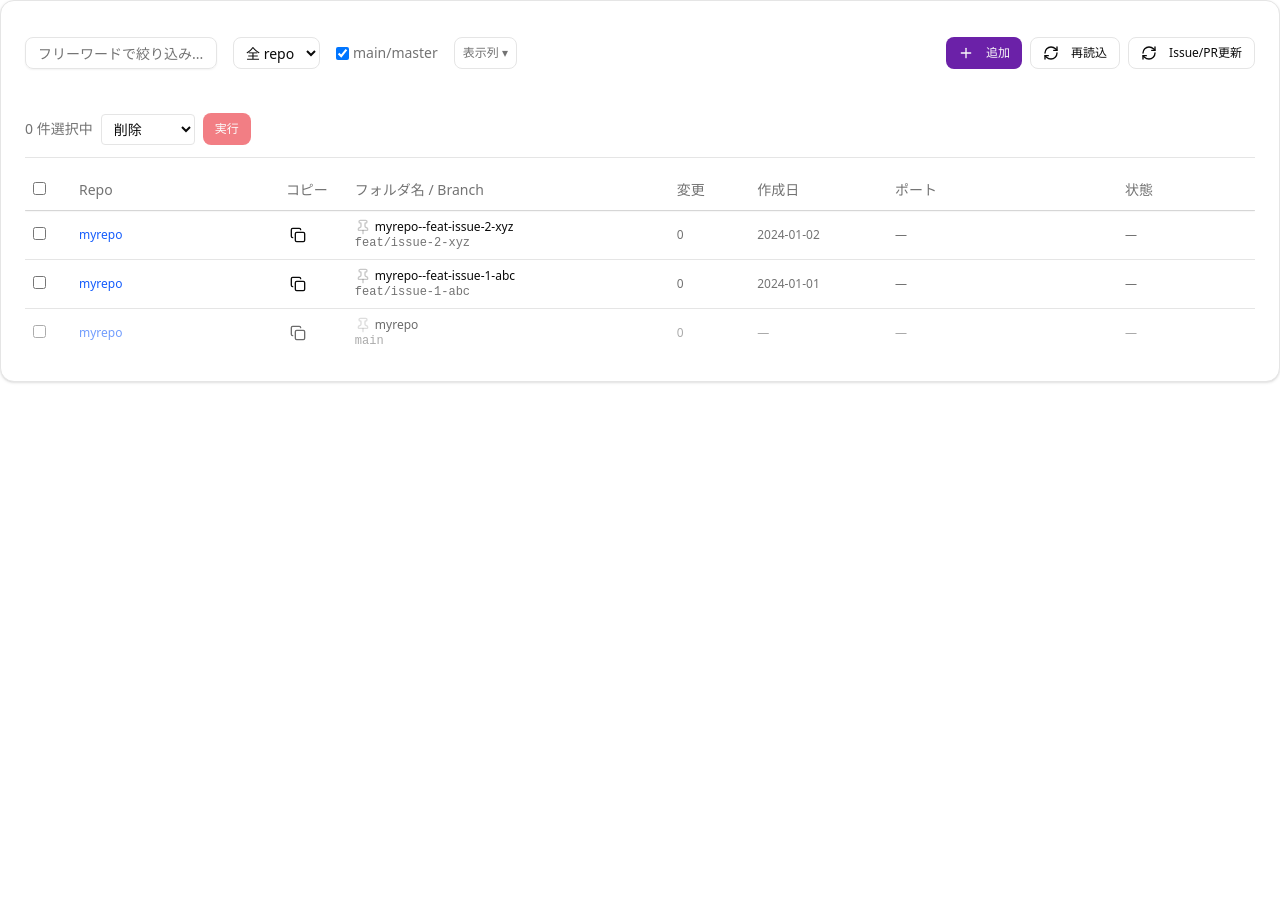
TreesPage - checkbox and bulk action › closes confirmation modal on cancel
Click the checkbox named "myrepo/myrepo--feat-issue-1-abc を選択" at (40, 282), box [33,276,46,288]
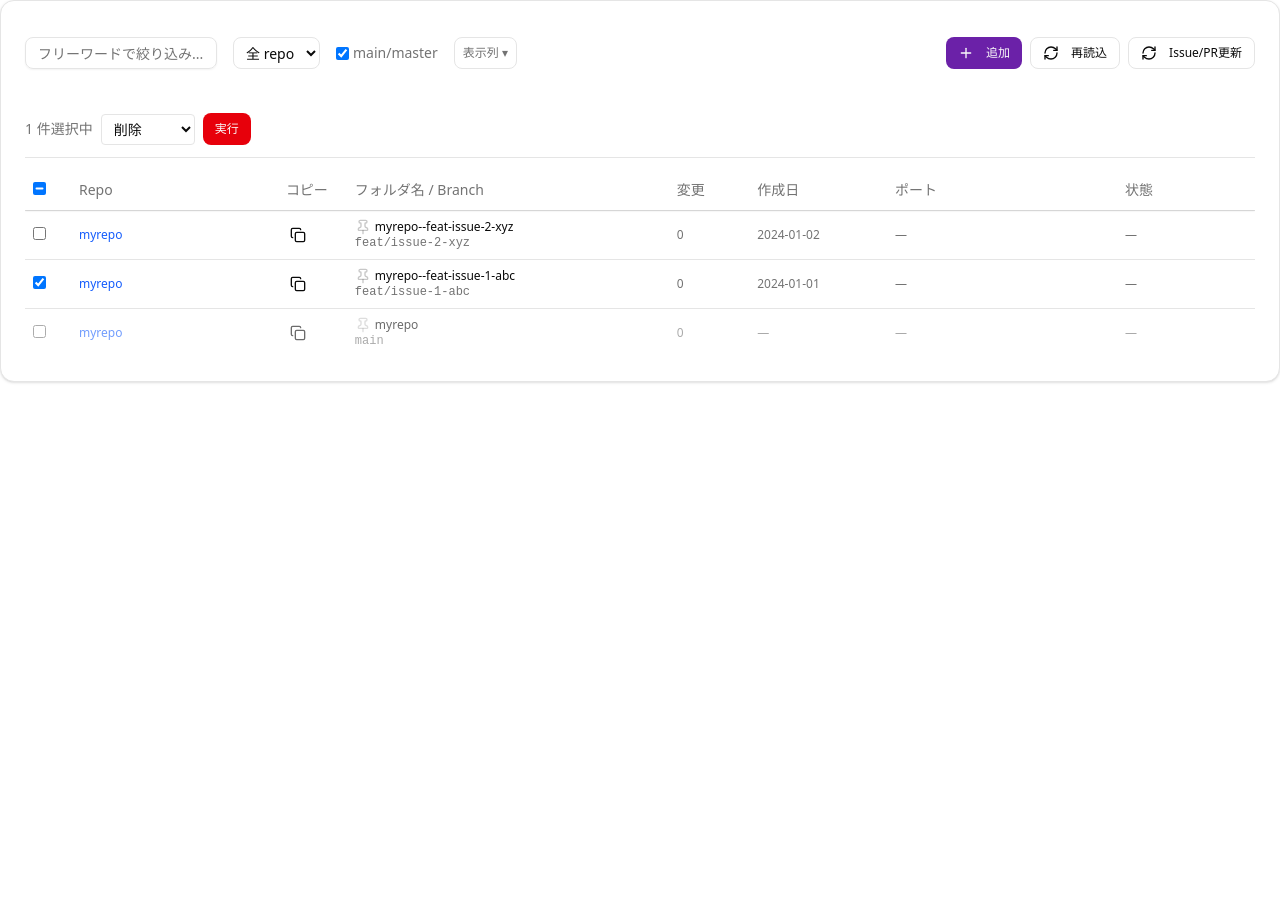
Click the button "実行" at (227, 129), box [203,113,251,145]
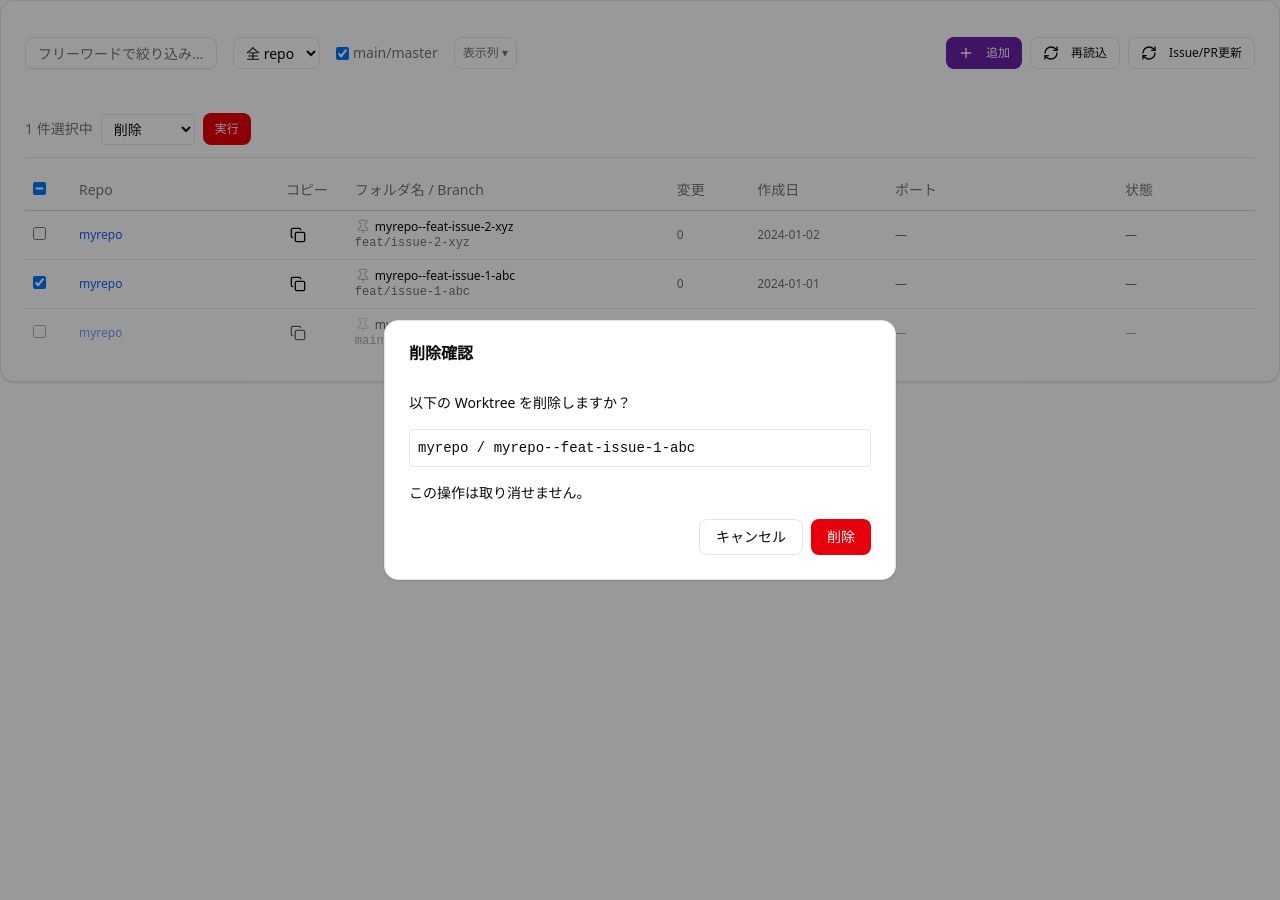
Result: the text "削除確認" is shown at [409,342,473,364]
Click the button "キャンセル" at (751, 537), box [699,519,803,555]
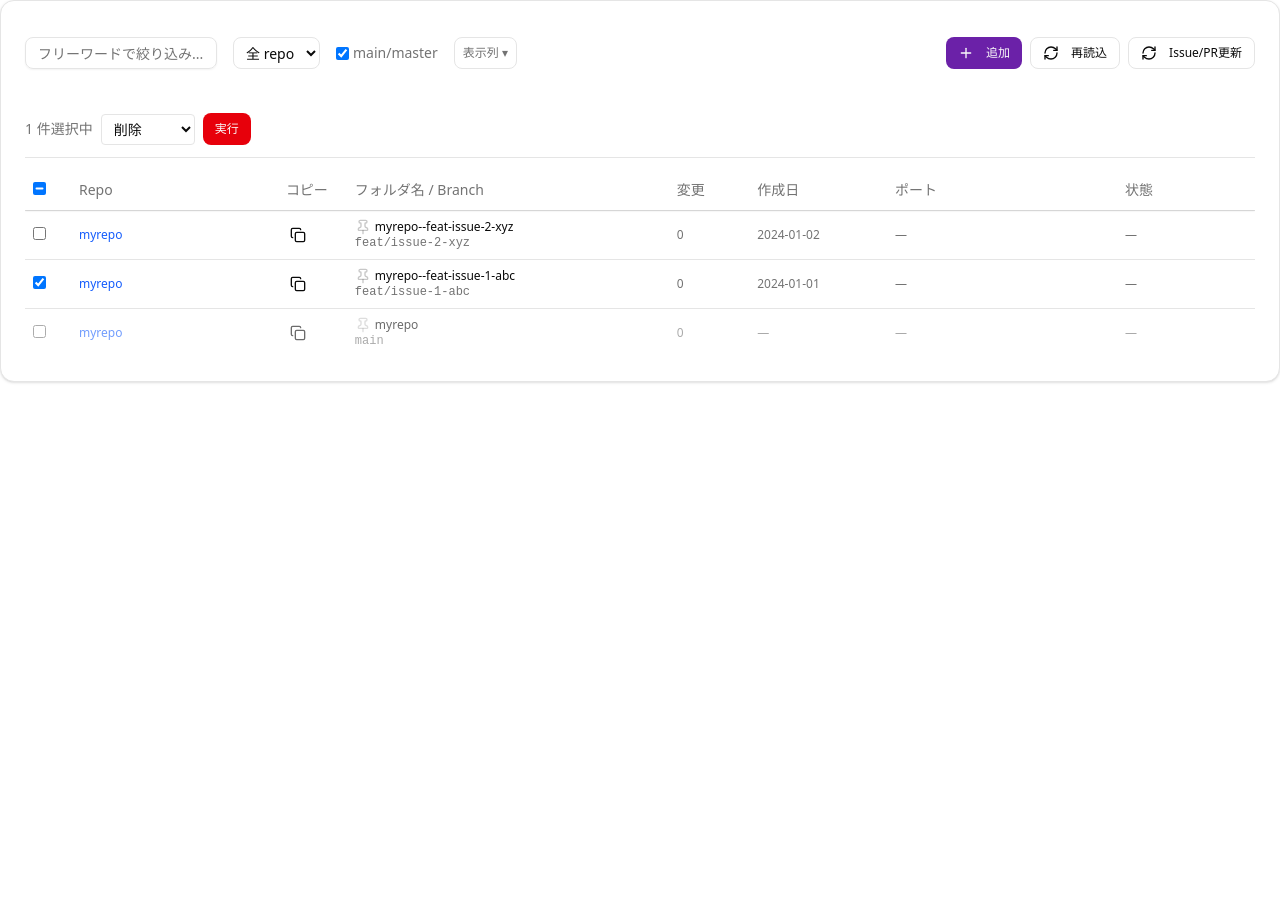
Result: the text "削除確認" is gone
